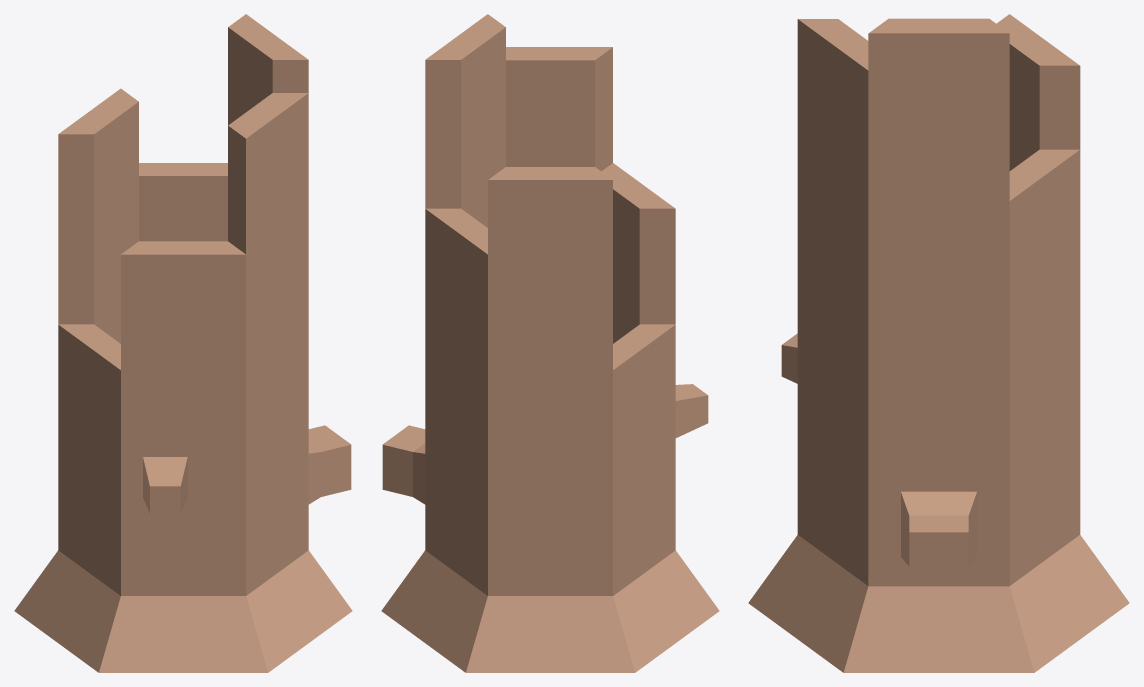
File: stump_oldTall.glb
3 renders of one model, left to right at view 1: azimuth 30°, elevation 25°; view 2: azimuth 150°, elevation 25°; view 3: azimuth 270°, elevation 25°, orthographic. The views are drawn at different scales.
Parts seen in each view (by area): view 1: stump_oldTall; view 2: stump_oldTall; view 3: stump_oldTall.
Part boxes in pixels (x1,y1,x2,y2): stump_oldTall: (14, 14, 352, 672); stump_oldTall: (381, 14, 719, 672); stump_oldTall: (748, 14, 1129, 672).
Size of the model in its own units: 0.3565 by 0.6665 by 0.371.
